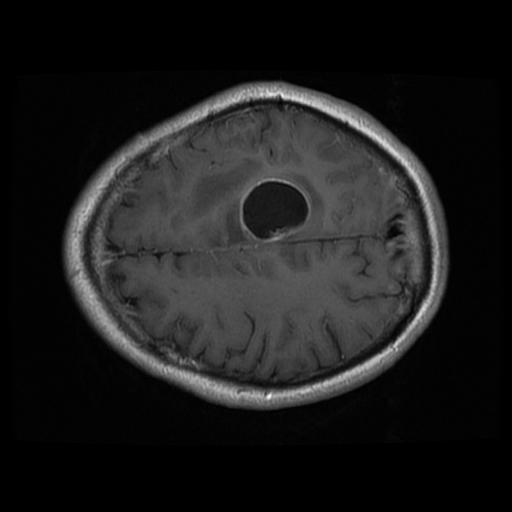glioma: (237, 177, 313, 243)
